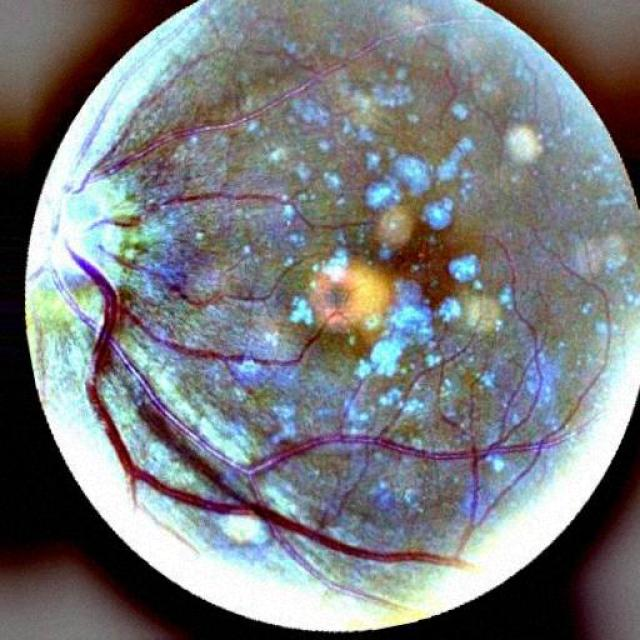Macula: (307, 275, 376, 321)
Nerves: (54, 241, 559, 561), (64, 64, 341, 192), (88, 189, 309, 229), (99, 244, 201, 308), (75, 72, 126, 169)
Optic Disk: (30, 156, 133, 294)
